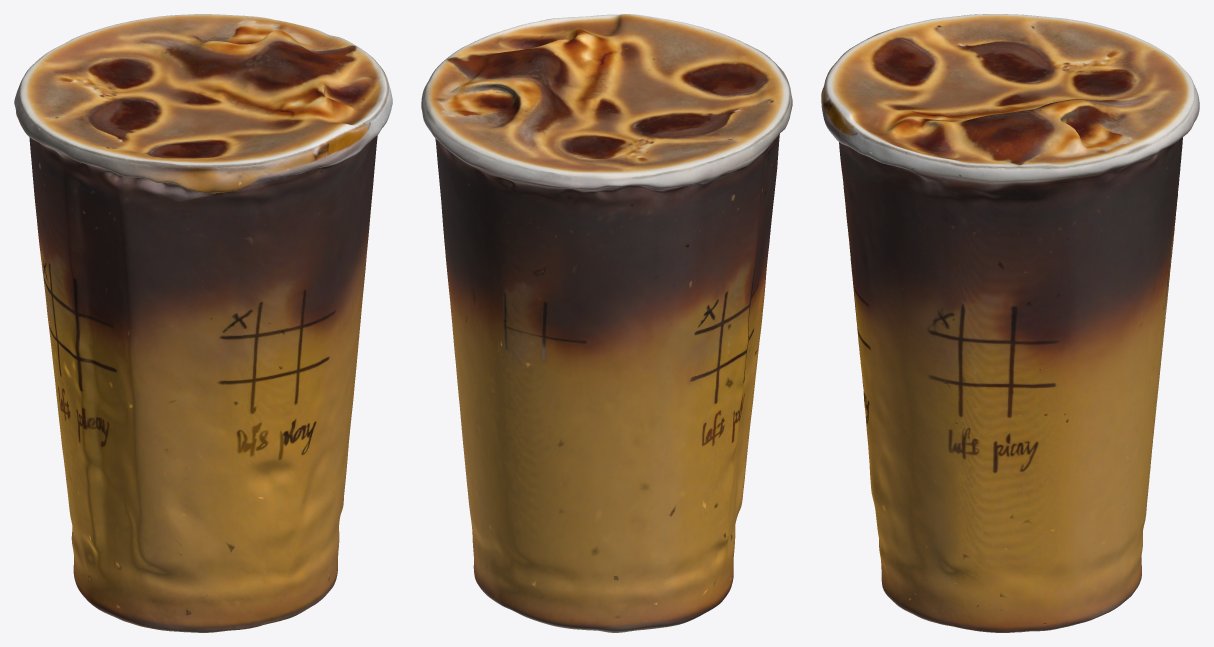
File: orange-small.glb
3 renders of one model, left to right at view 1: azimuth 30°, elevation 25°; view 2: azimuth 150°, elevation 25°; view 3: azimuth 270°, elevation 25°, orthographic.
Size of the model in its own units: 1.35 by 2 by 1.36.
1 material, 1 textured.
